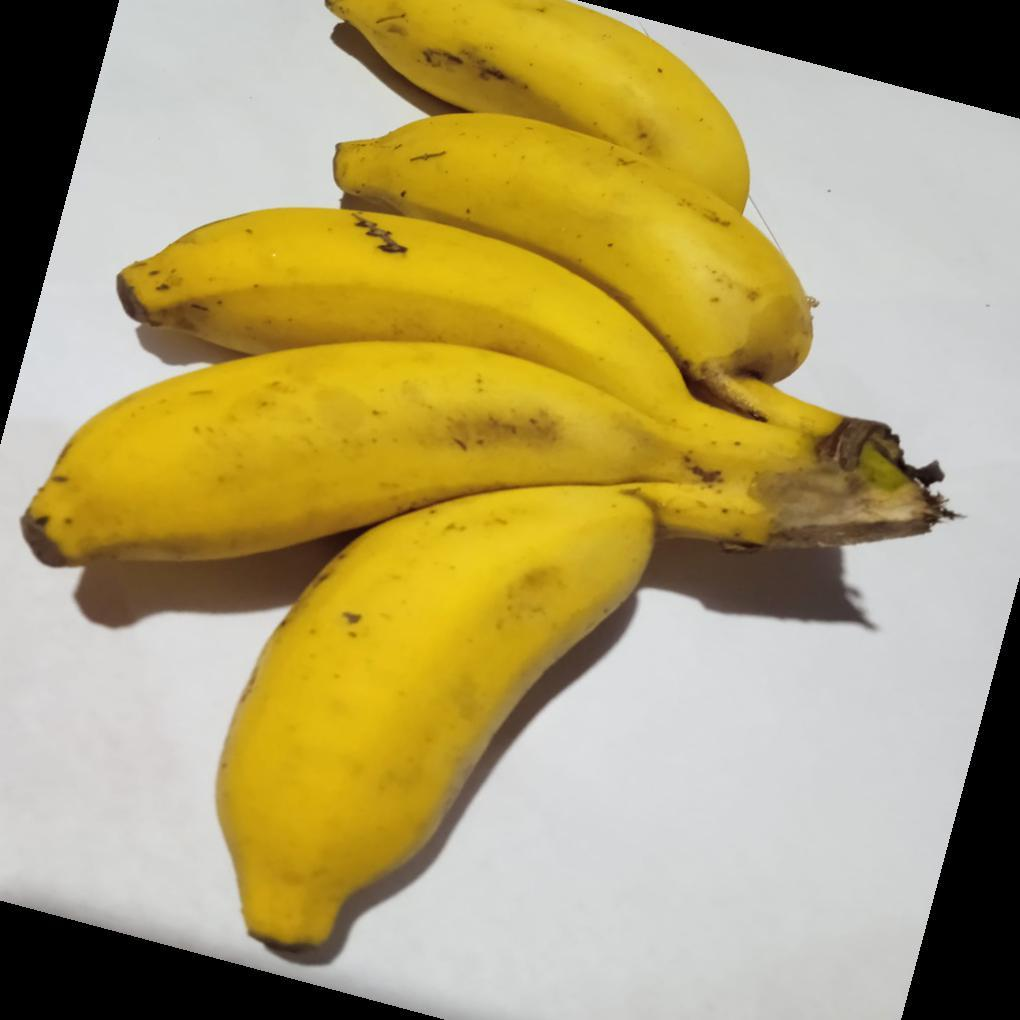Banana Ripe: (25, 0, 922, 979), (172, 463, 789, 994), (16, 344, 827, 621), (319, 71, 874, 444), (101, 184, 803, 473), (322, 0, 790, 233)
